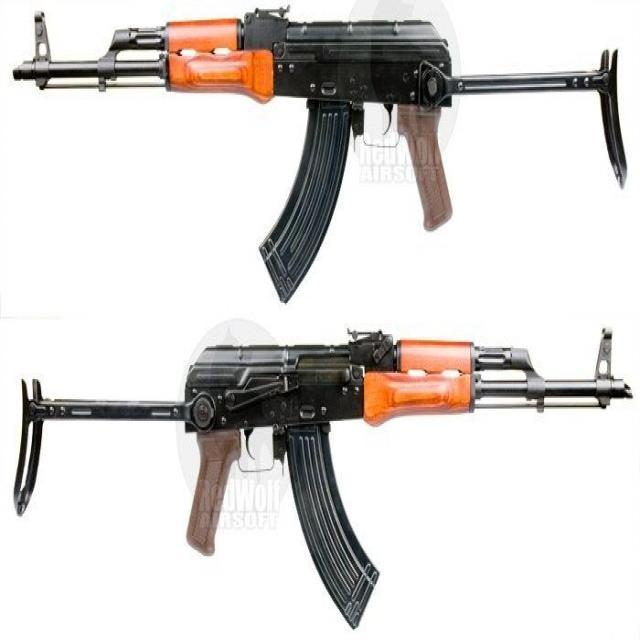weapon: (11, 324, 634, 632), (13, 7, 629, 306)
